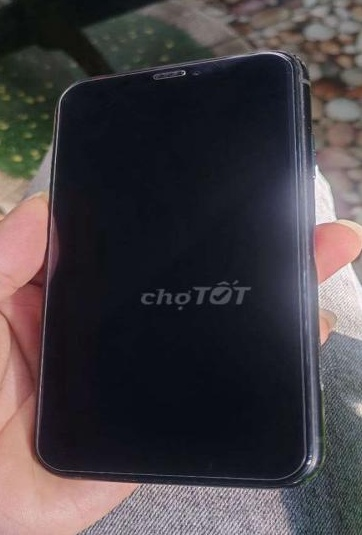scratch: (291, 443, 330, 479), (281, 43, 325, 73), (196, 52, 234, 78)
